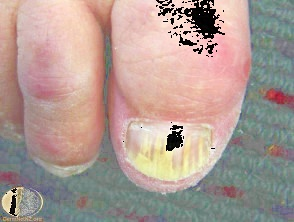Nail_psoriasis: (104, 90, 262, 202), (27, 143, 106, 185)
